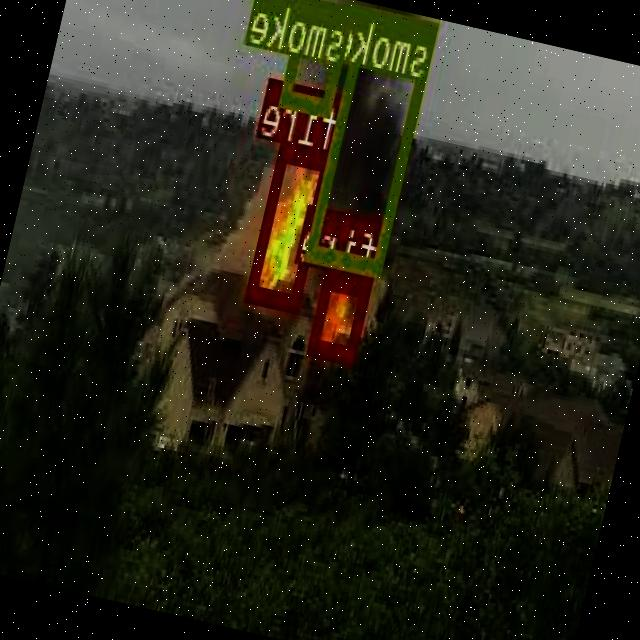fire: (249, 140, 337, 309), (311, 269, 374, 360)
smoke: (307, 4, 441, 273), (282, 0, 355, 112)
